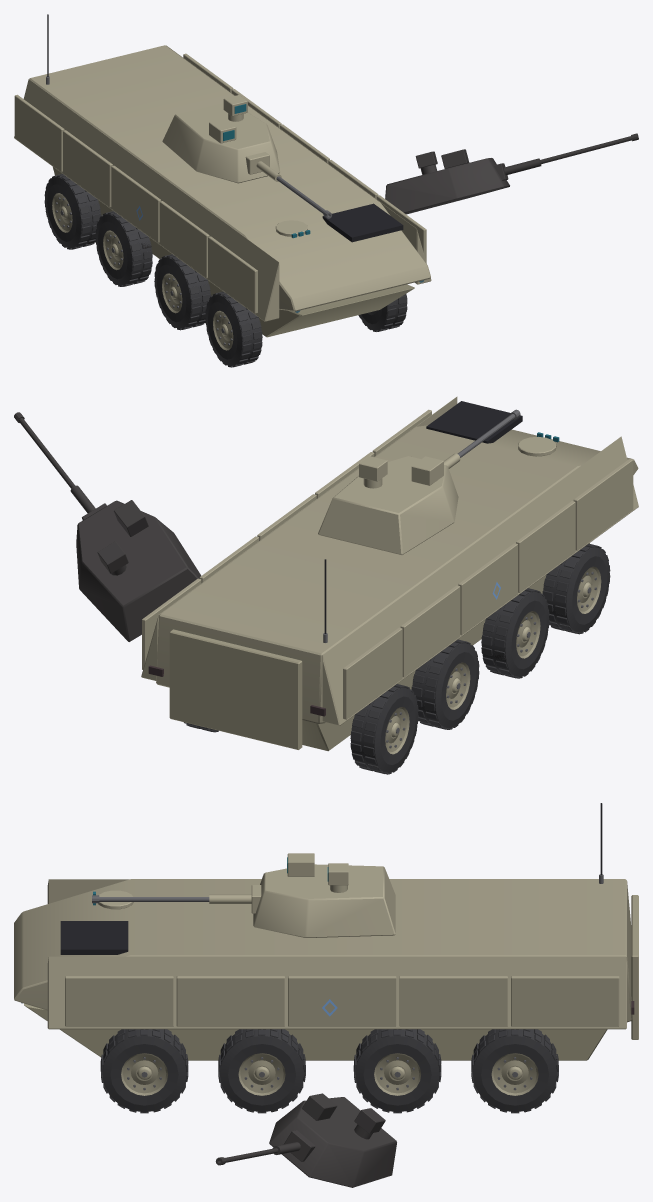
File: apc__lav_700.glb
The picture shows the model from 3 angles, top to bottom: view 1: azimuth 30°, elevation 25°; view 2: azimuth 150°, elevation 25°; view 3: azimuth 270°, elevation 25°; orthographic projection. The views are drawn at different scales.
Parts seen in each view (by area): view 1: Hull_Mesh, Turret_Mesh, Wreck, Wheel_L3_Mesh, Wheel_L1_Mesh, Wheel_L2_Mesh, Wheel_L0_Mesh, Wheel_R3_Mesh, Gun_Mesh; view 2: Hull_Mesh, Wreck, Turret_Mesh, Wheel_L0_Mesh, Wheel_L2_Mesh, Wheel_L1_Mesh, Wheel_L3_Mesh, Gun_Mesh; view 3: Hull_Mesh, Turret_Mesh, Wreck, Wheel_R3_Mesh, Wheel_R0_Mesh, Wheel_R1_Mesh, Wheel_R2_Mesh, Gun_Mesh.
Boxes of the visible parts, box(x1,y1,x2,y2) form: Hull_Mesh: box(14, 14, 431, 337); Turret_Mesh: box(162, 95, 279, 183); Wreck: box(59, 133, 638, 365); Wheel_L3_Mesh: box(205, 291, 262, 367); Wheel_L1_Mesh: box(95, 211, 152, 286); Wheel_L2_Mesh: box(154, 254, 211, 330); Wheel_L0_Mesh: box(44, 174, 101, 249); Wheel_R3_Mesh: box(358, 294, 407, 331); Gun_Mesh: box(245, 152, 331, 218); Hull_Mesh: box(141, 396, 638, 751); Wreck: box(14, 412, 591, 766); Turret_Mesh: box(318, 456, 458, 554); Wheel_L0_Mesh: box(350, 684, 418, 774); Wheel_L2_Mesh: box(481, 588, 549, 678); Wheel_L1_Mesh: box(411, 639, 479, 729); Wheel_L3_Mesh: box(542, 543, 610, 634); Gun_Mesh: box(444, 409, 520, 468); Hull_Mesh: box(14, 803, 638, 1060); Turret_Mesh: box(253, 853, 395, 937); Wreck: box(120, 1048, 530, 1187); Wheel_R3_Mesh: box(100, 1029, 188, 1113); Wheel_R0_Mesh: box(471, 1029, 558, 1113); Wheel_R1_Mesh: box(353, 1029, 441, 1113); Wheel_R2_Mesh: box(218, 1029, 305, 1113); Gun_Mesh: box(92, 885, 261, 913).
Size of what is drawn, in the model's own units: 7.98 by 3.37 by 8.3.
